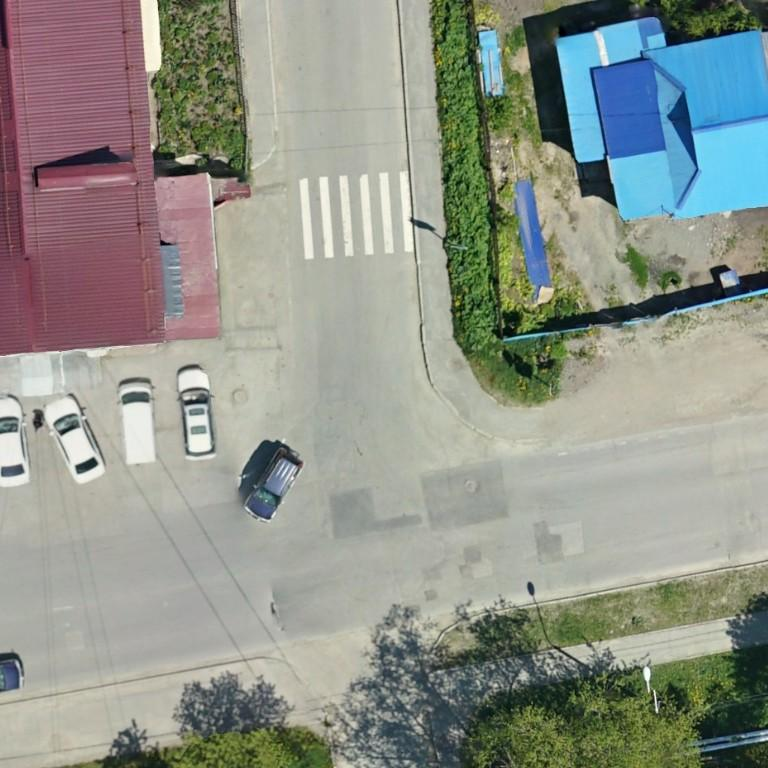hogweed: (435, 0, 494, 353)
